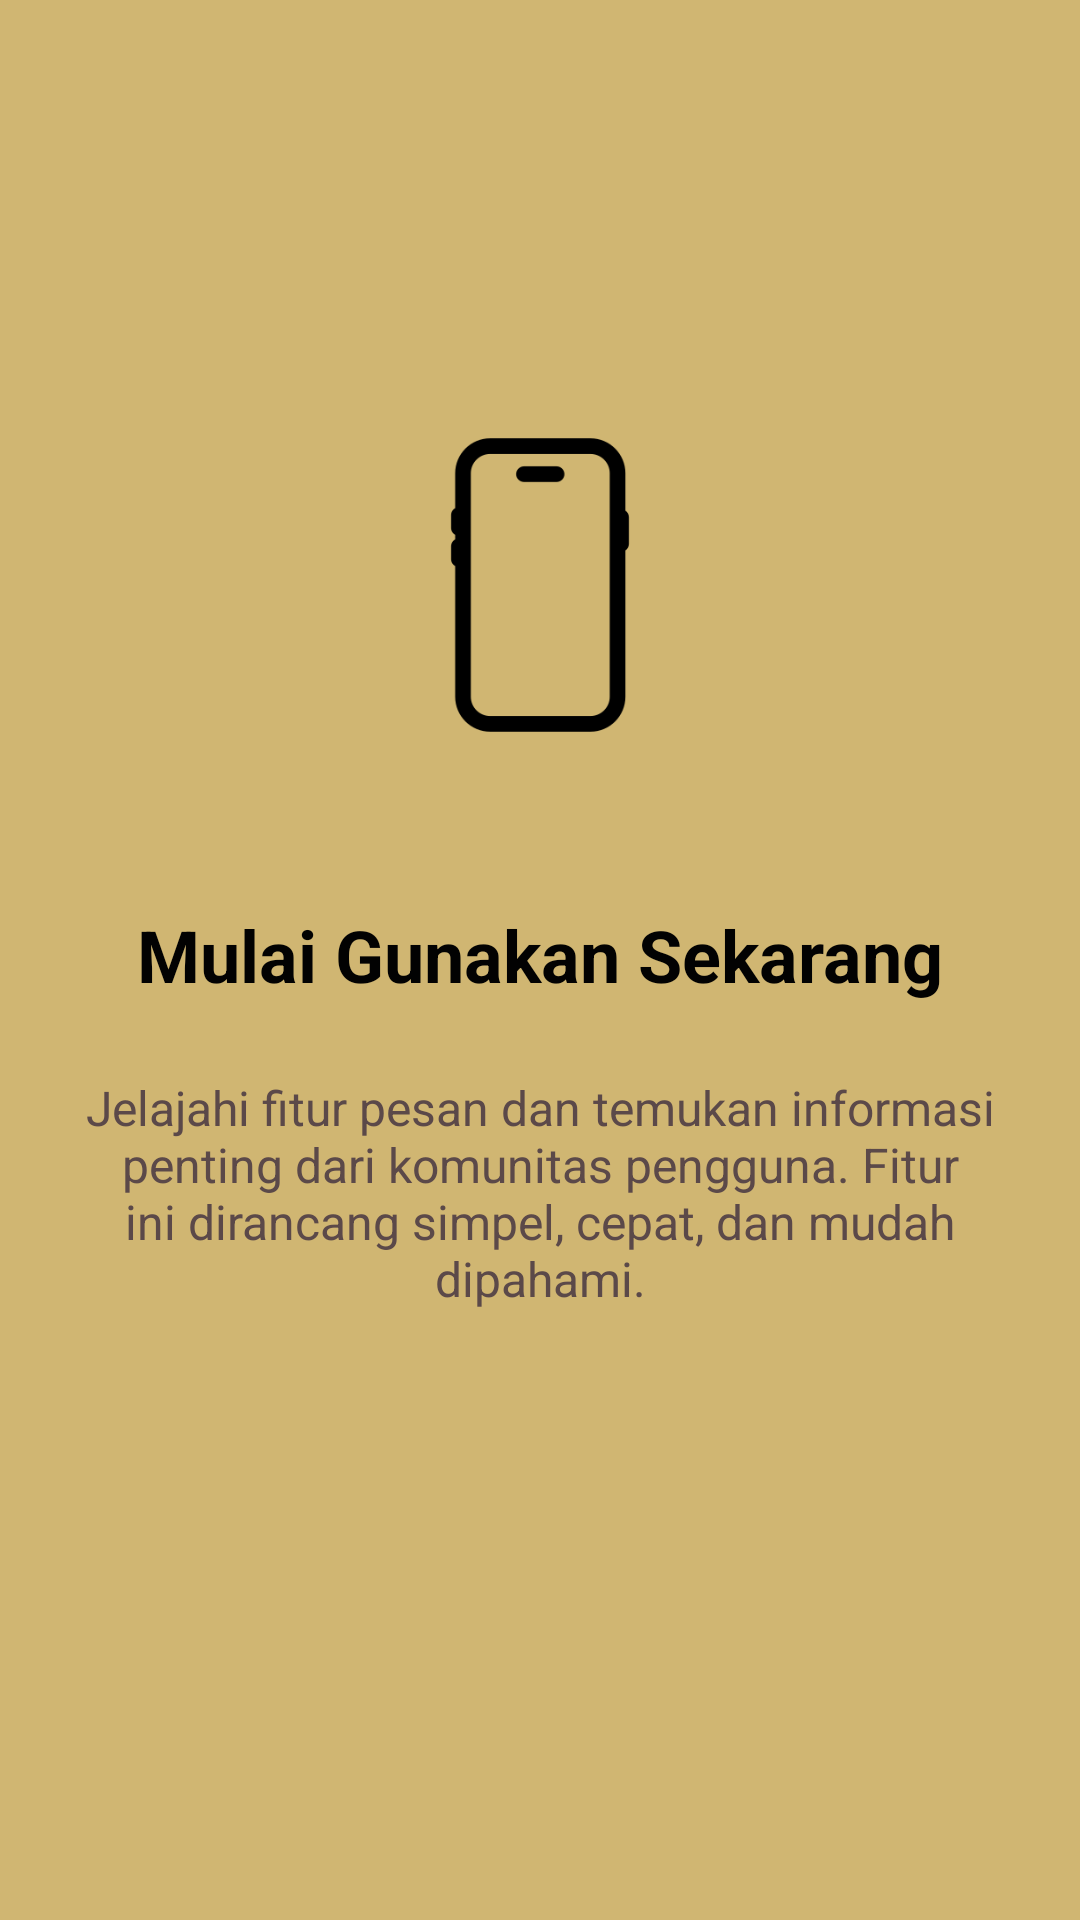

Named icons in this screenshot (1080w x 1920h) and their bounding boxes, (x1, y1, x2, y2):
handphone: (451, 438, 629, 732)
